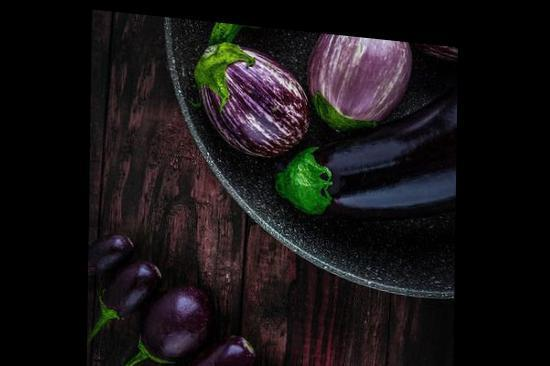eggplant: (187, 23, 312, 170), (307, 25, 415, 129), (377, 31, 458, 64)
